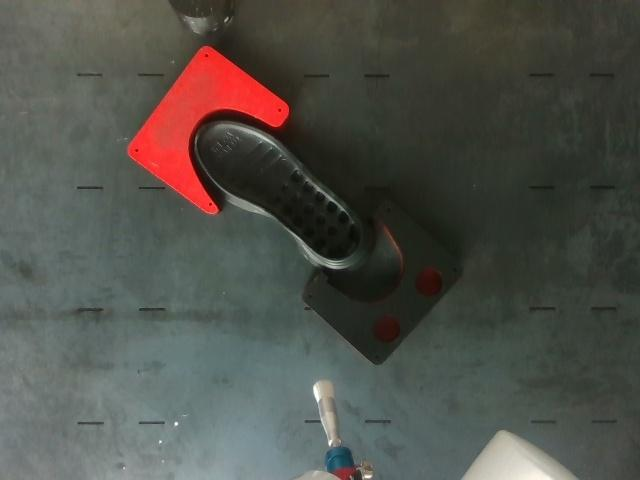shoes: (196, 120, 362, 261)
